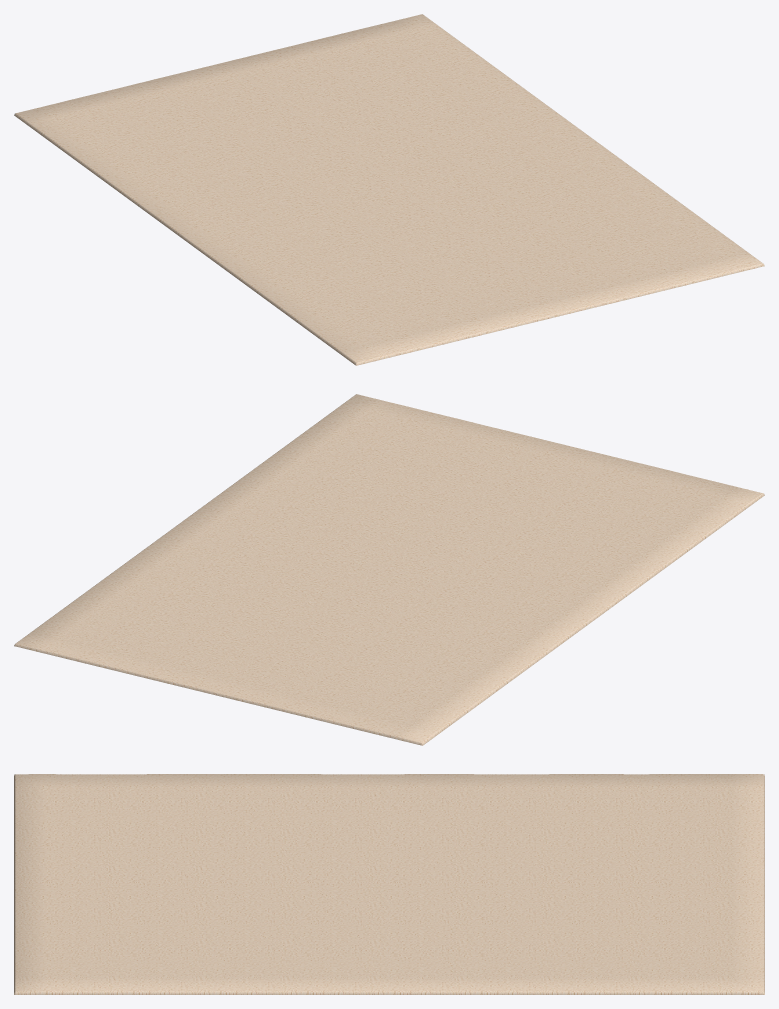
The model's file is rug_2.glb.
3 renders of one model, top to bottom at view 1: azimuth 30°, elevation 25°; view 2: azimuth 150°, elevation 25°; view 3: azimuth 270°, elevation 25°, orthographic. The views are drawn at different scales.
Parts seen in each view (by area): view 1: rug_stue; view 2: rug_stue; view 3: rug_stue.
Part boxes in pixels (<box>): rug_stue: <box>14,14,764,365</box>; rug_stue: <box>14,394,764,745</box>; rug_stue: <box>14,774,764,994</box>.
Bounding box in the file's own units: 2 × 0.0127 × 2.9.
Materials: 1 (1 with a texture image).
